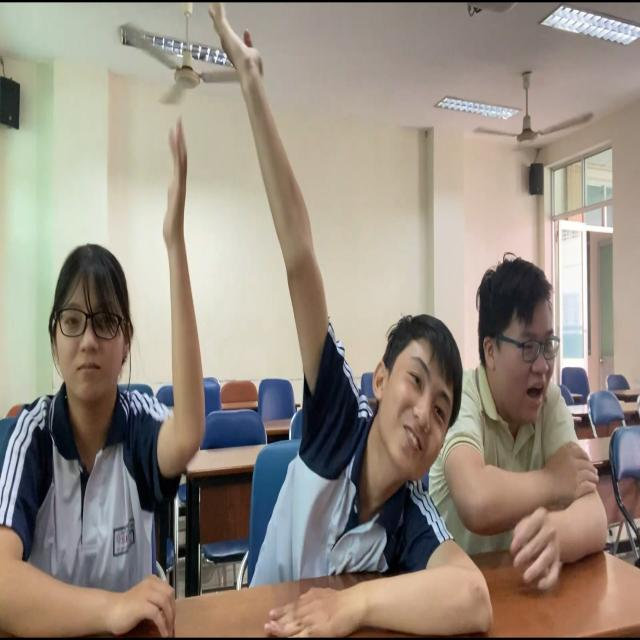raise_hand: (1, 117, 206, 640)
